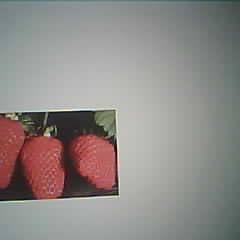straw-ripe: (22, 136, 66, 198), (71, 133, 116, 189)
